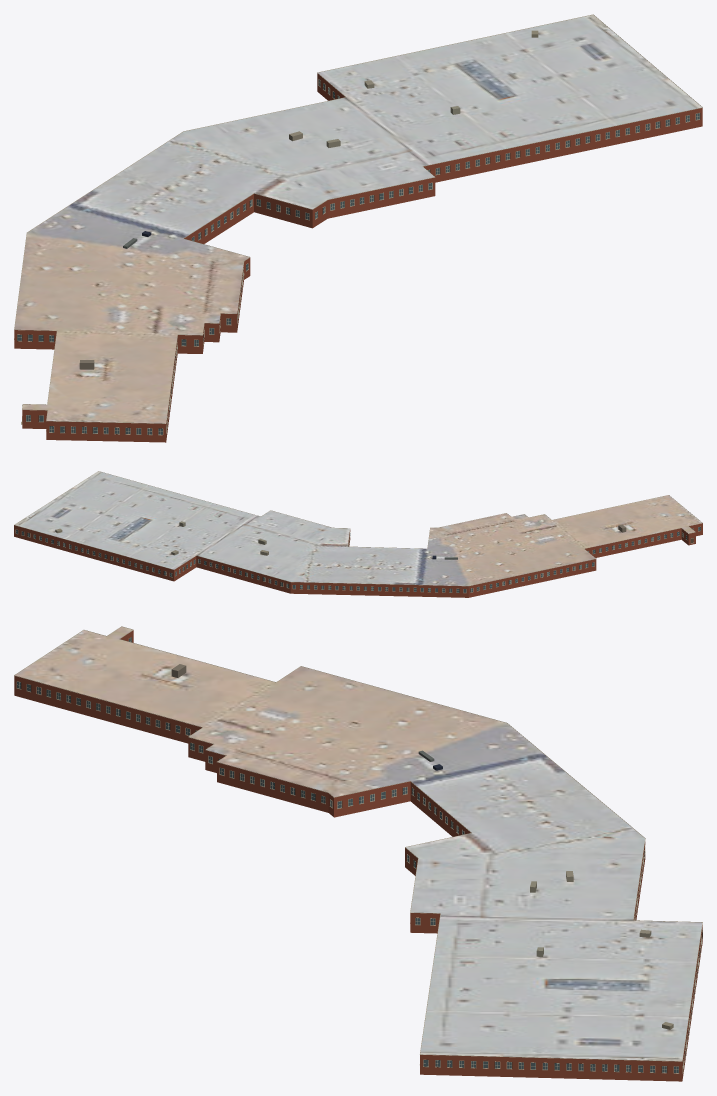
The picture shows the model from 3 angles, top to bottom: view 1: azimuth 30°, elevation 25°; view 2: azimuth 150°, elevation 25°; view 3: azimuth 270°, elevation 25°; orthographic projection. The views are drawn at different scales.
Visible parts, largest first — view 1: -6_-2_309459600_0; view 2: -6_-2_309459600_0; view 3: -6_-2_309459600_0.
Part boxes in pixels (box(x1,y1,x2,y2)): -6_-2_309459600_0: box(14, 14, 702, 442); -6_-2_309459600_0: box(14, 471, 702, 597); -6_-2_309459600_0: box(14, 626, 702, 1081).
Bounding box in the file's own units: 330 × 9.55 × 221.
Materials: 10 (1 with a texture image).
